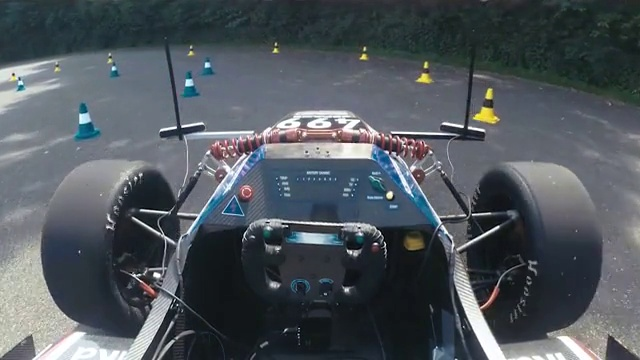Cone: (472, 86, 503, 124), (75, 101, 102, 140), (414, 61, 435, 85), (181, 72, 200, 98), (201, 56, 216, 75)
